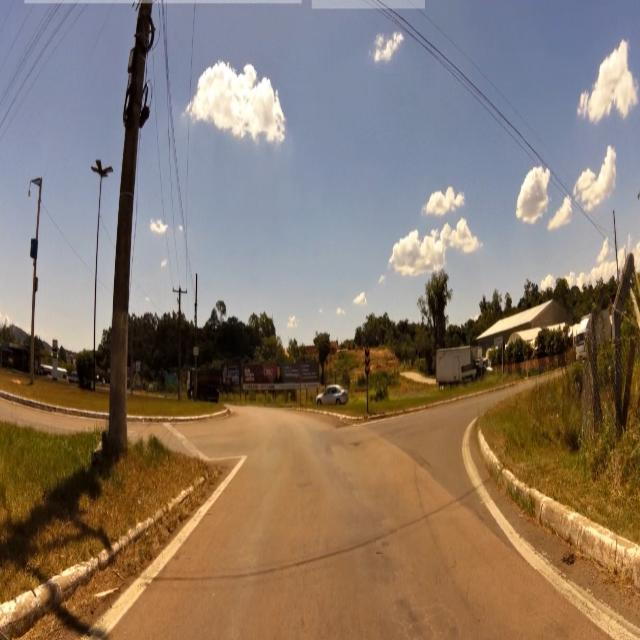MP: (365, 344, 370, 380)
